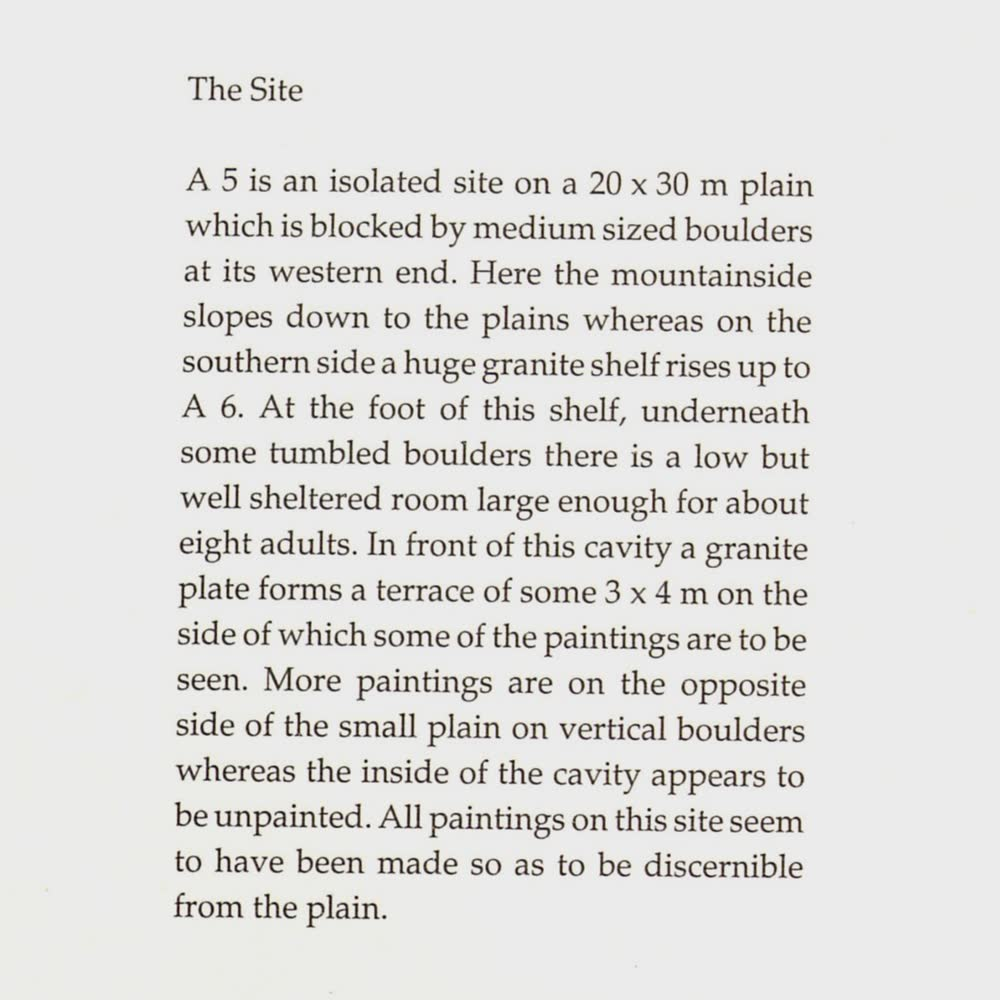text: (173, 70, 813, 925)
